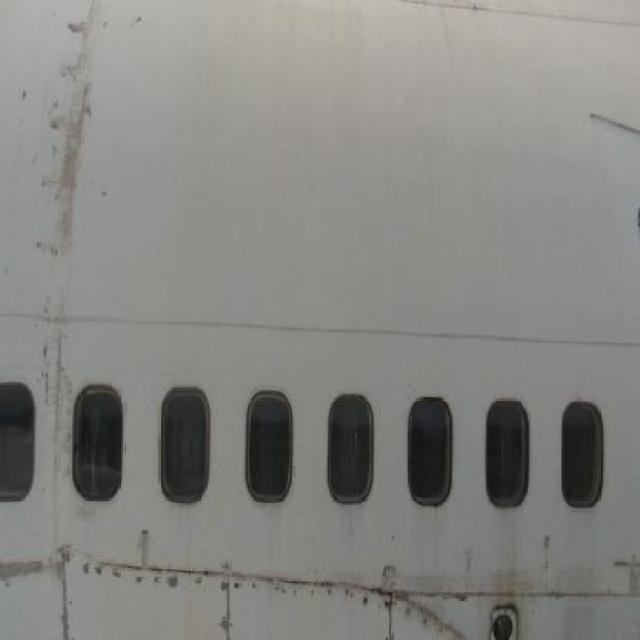Missing-Rivet: (4, 535, 482, 640), (28, 5, 118, 410)
